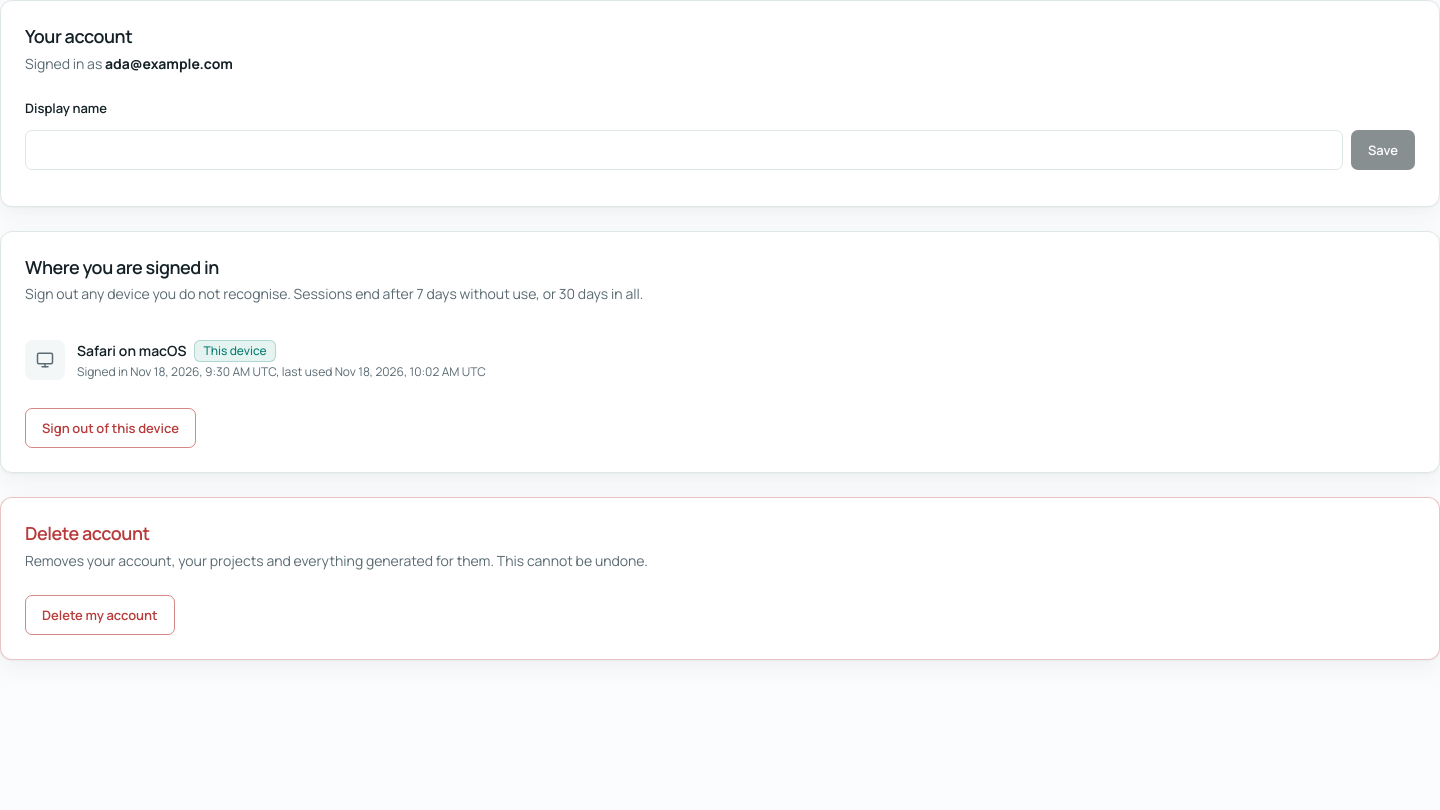
Scenario: AccountView › shows rate limiting in plain words
Type "Ada" into the field labelled "Display name" at [684, 150], box [25,130,1343,170]
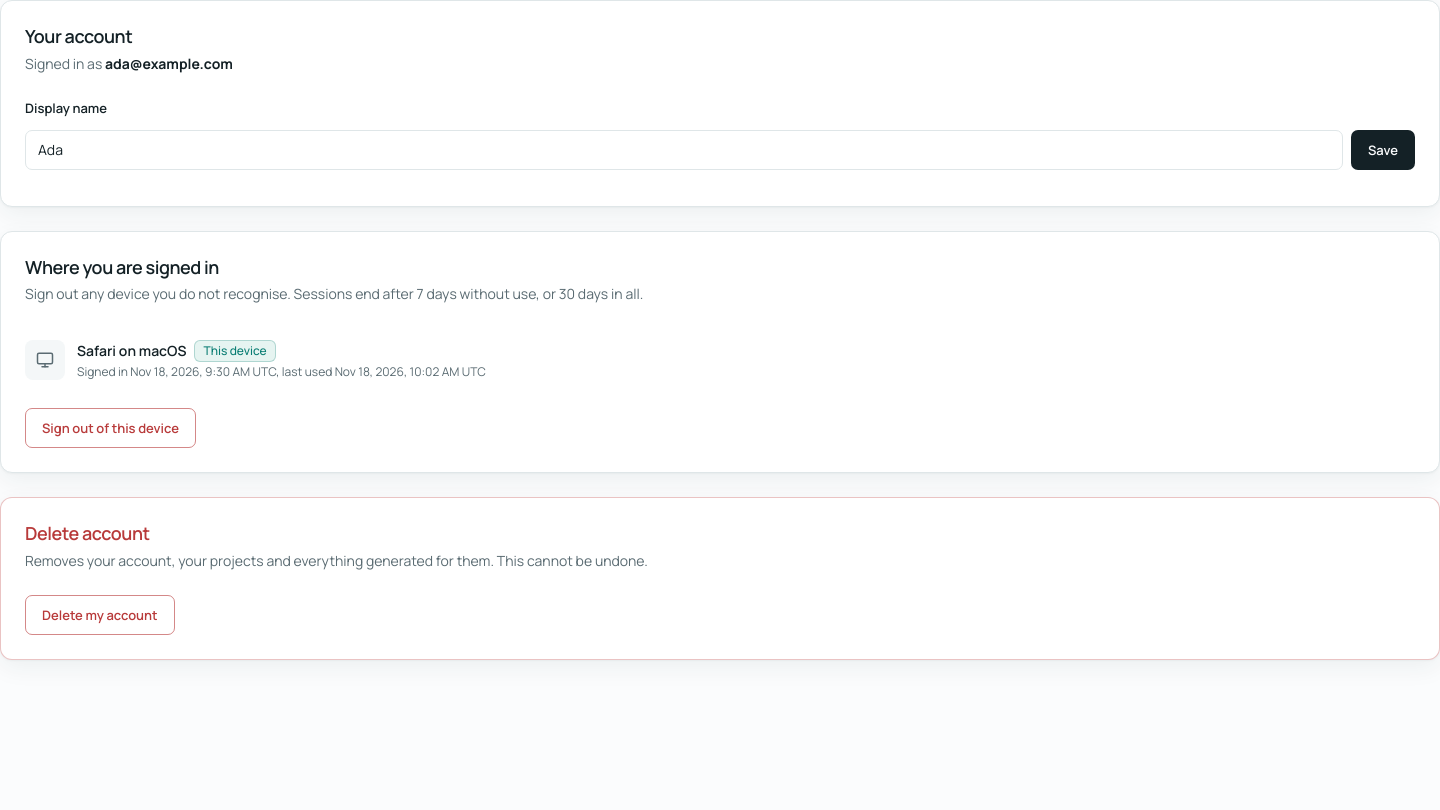
Click the button "Save" at [1383, 150], box [1351,130,1415,170]
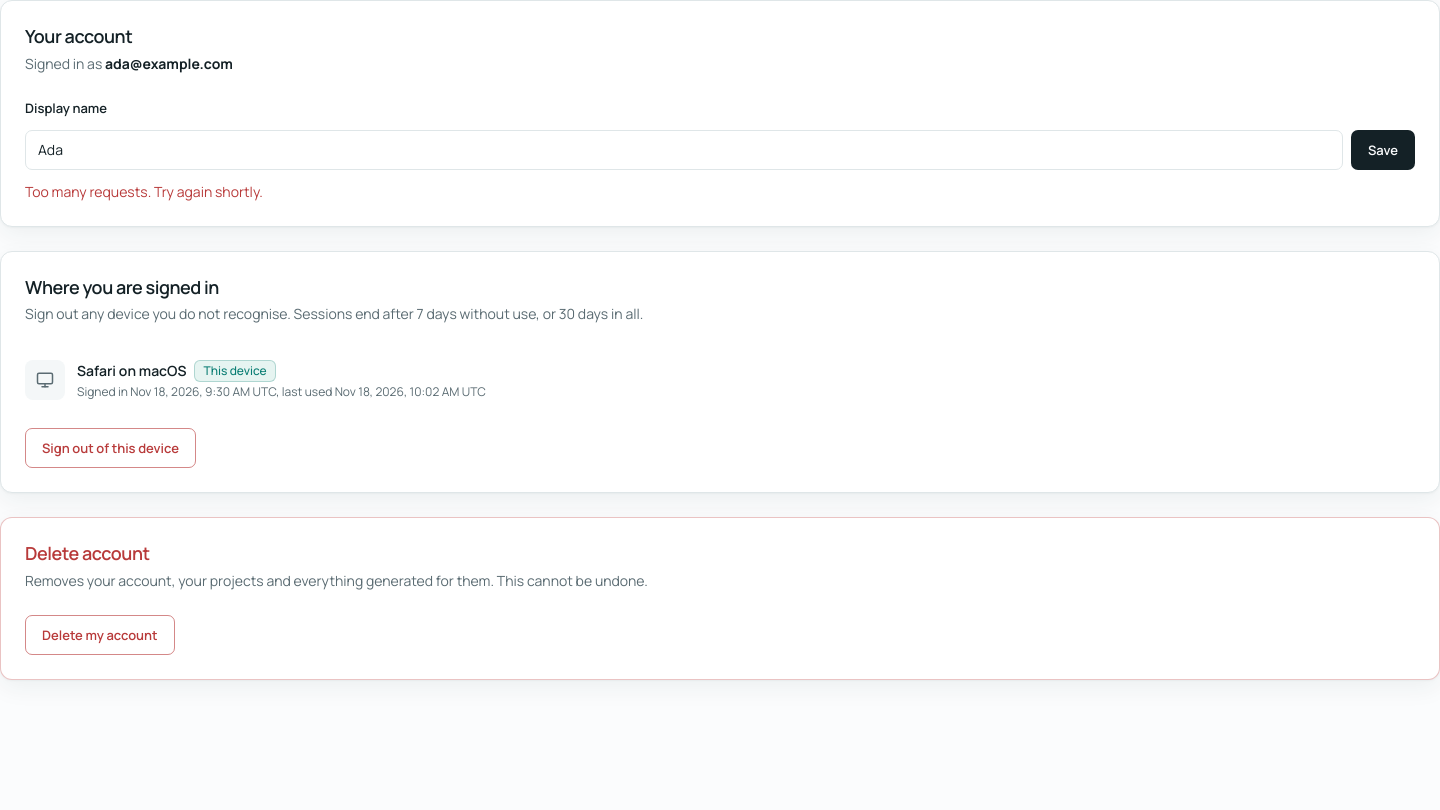
Expected: the message shows "Too many requests", [25,182,263,201]
